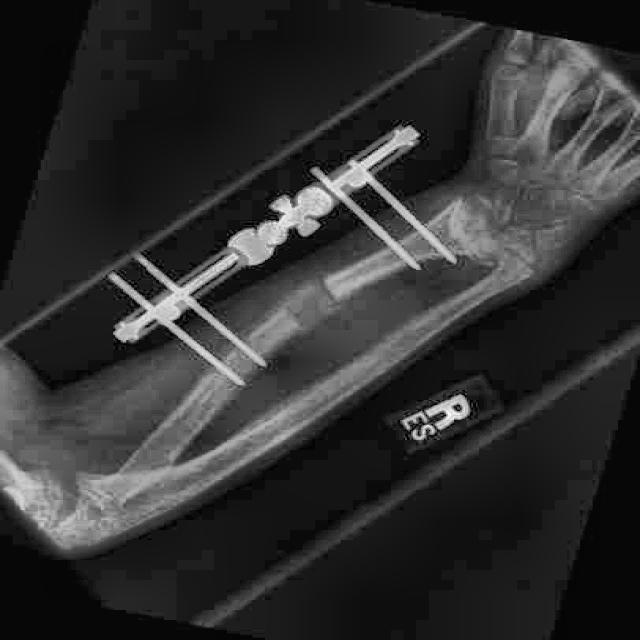forearm fracture: (233, 254, 388, 357)
